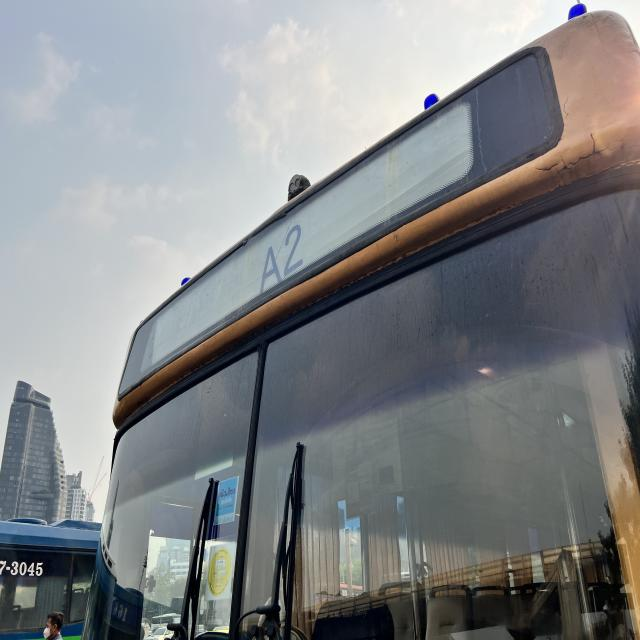BMTA-bus: (86, 7, 640, 640)
Bus-Line-Number: (259, 218, 309, 299)
